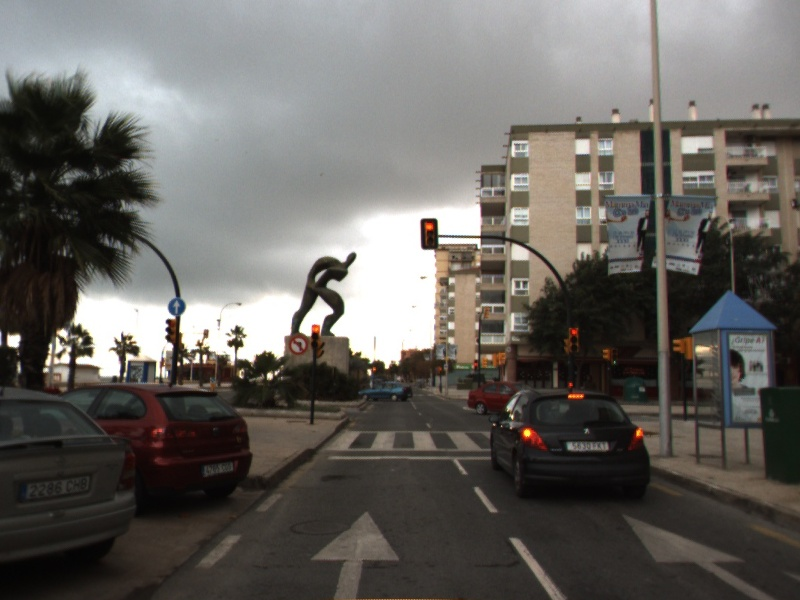STRAIGHT: (620, 512, 779, 600), (309, 509, 402, 600)
